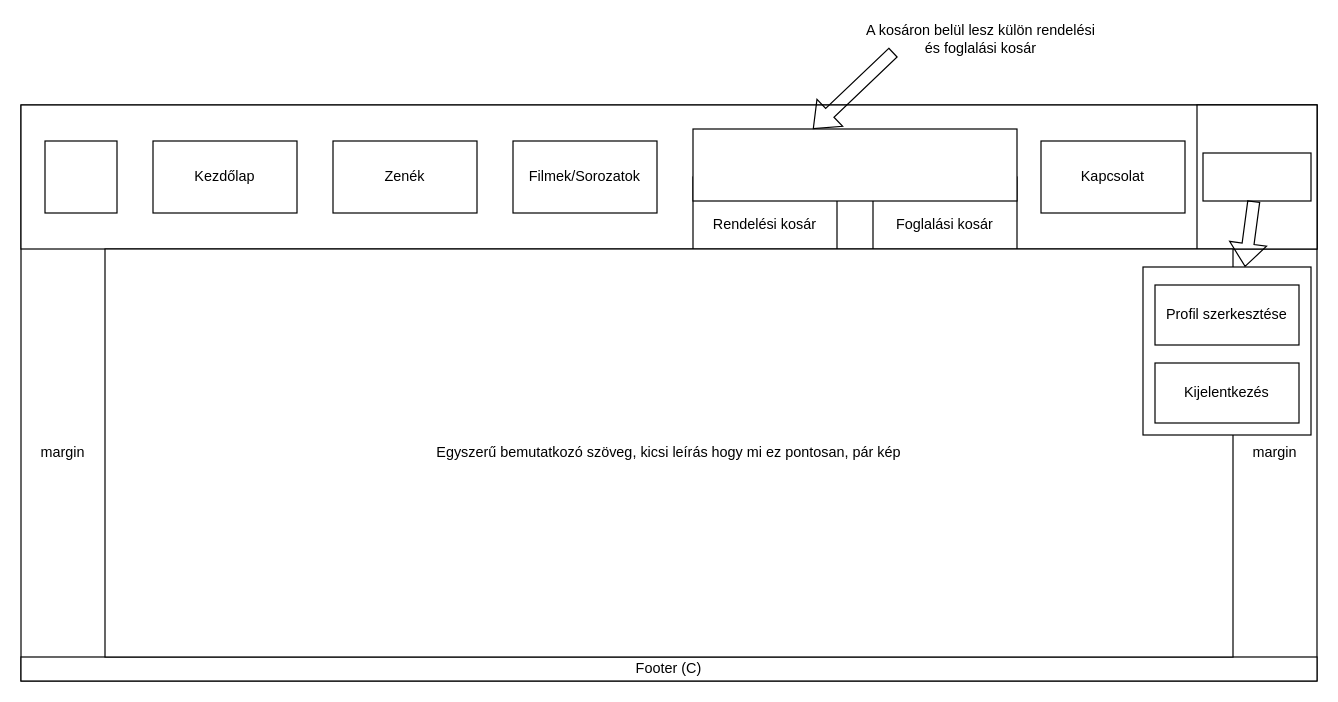
The diagram is 1338 pixels wide and 702 high, and some of its shapes have lost their labels. Each missing label, with the centre of its shape:
Kosár: the point at 854,164
Logo: the point at 80,176
Profil: the point at 1256,176
